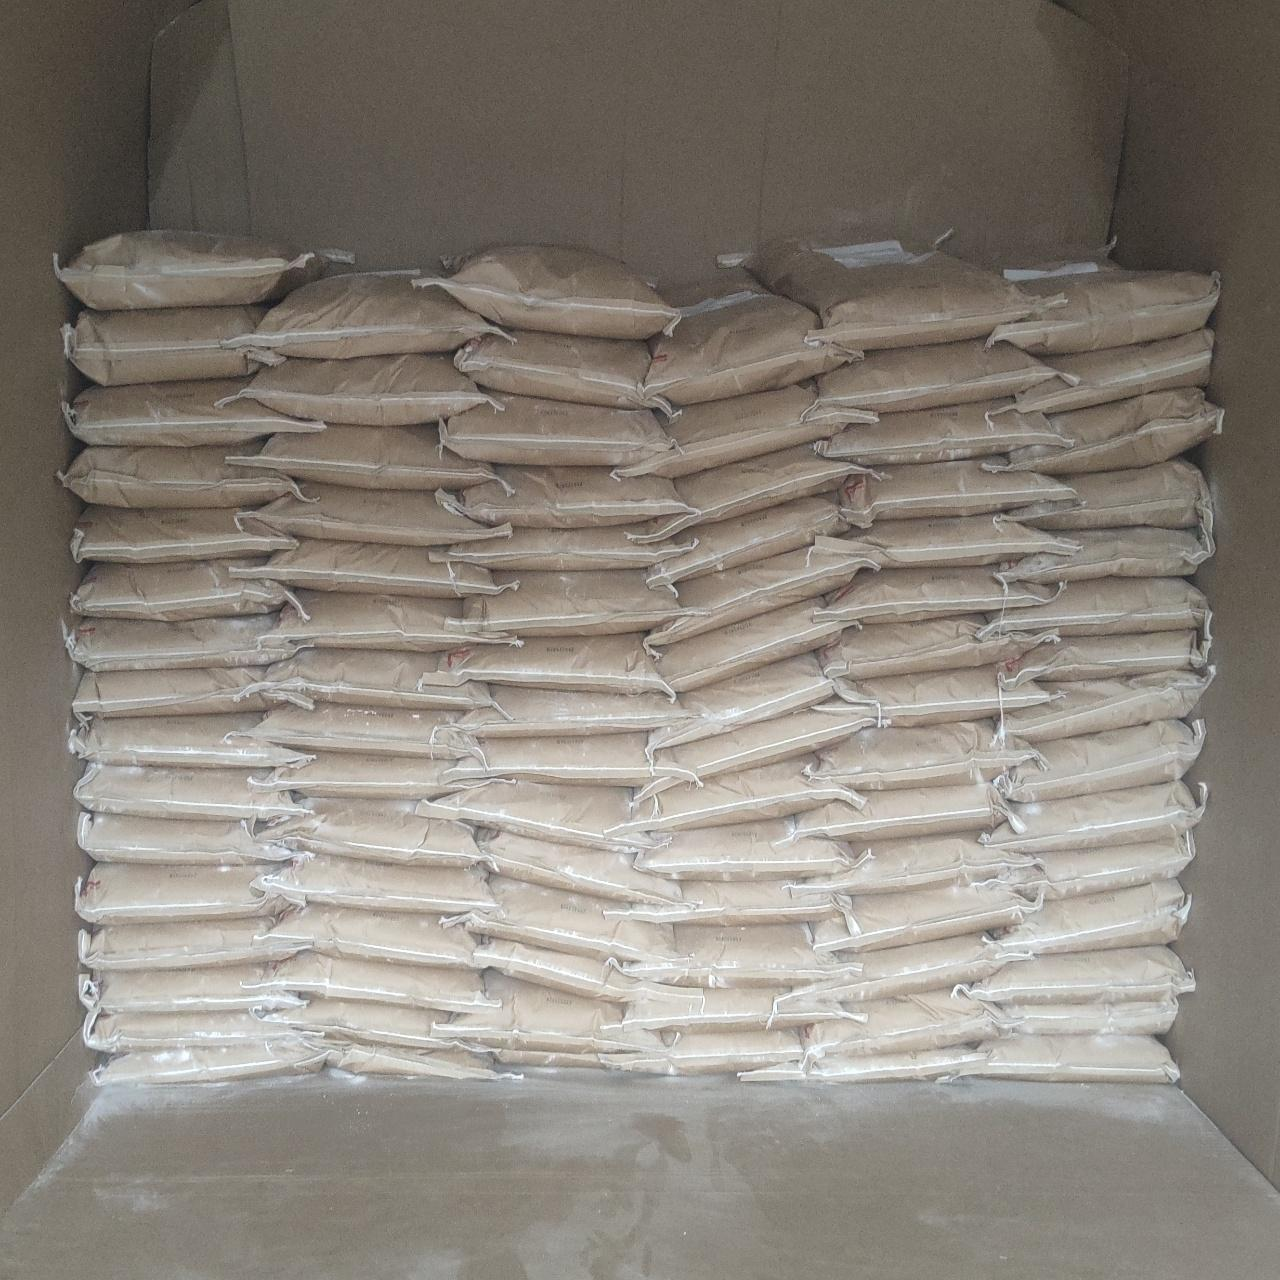sack: (720, 244, 1060, 350), (644, 270, 855, 406), (631, 701, 879, 810), (986, 245, 1219, 354), (617, 382, 874, 478), (416, 246, 676, 336), (636, 445, 880, 540), (230, 272, 504, 356), (57, 230, 350, 308), (648, 546, 870, 644), (440, 876, 674, 960), (986, 390, 1223, 472), (610, 756, 860, 832), (646, 496, 847, 588), (414, 779, 662, 855), (778, 934, 1030, 1008), (648, 652, 842, 748), (656, 598, 856, 690), (456, 331, 678, 414), (433, 972, 656, 1054), (1002, 328, 1212, 414), (816, 340, 1054, 411), (64, 380, 322, 445), (238, 354, 486, 422), (992, 720, 1204, 798), (978, 779, 1204, 852), (992, 670, 1210, 745), (66, 306, 280, 382), (232, 424, 493, 486), (818, 720, 1044, 790), (812, 400, 1065, 462), (440, 394, 670, 462), (244, 482, 506, 542), (229, 540, 512, 595), (454, 570, 686, 636), (808, 881, 1034, 949), (266, 590, 516, 651), (478, 828, 680, 903), (818, 663, 1060, 726), (974, 835, 1194, 903), (438, 467, 688, 526), (818, 614, 1054, 678), (474, 938, 703, 1002), (425, 634, 670, 694), (998, 458, 1210, 526), (60, 445, 300, 504), (260, 952, 493, 1012), (256, 855, 498, 912), (450, 731, 697, 788), (264, 648, 488, 710), (634, 818, 866, 878), (799, 835, 1030, 894), (70, 560, 292, 622), (256, 998, 490, 1056), (992, 880, 1189, 949), (264, 798, 478, 862), (840, 459, 1070, 518), (784, 784, 1022, 840), (620, 924, 842, 983), (248, 702, 478, 760), (824, 566, 1058, 622), (264, 904, 476, 966), (76, 764, 309, 821), (956, 946, 1190, 1002), (803, 990, 999, 1057), (68, 614, 300, 670), (821, 515, 1073, 566), (76, 864, 298, 922), (72, 712, 306, 765), (983, 578, 1210, 632), (74, 506, 294, 561), (76, 666, 309, 716), (996, 527, 1210, 583), (1000, 629, 1208, 686), (454, 686, 692, 734), (440, 524, 696, 568), (80, 918, 306, 968), (84, 964, 300, 1016), (79, 812, 308, 862), (956, 1034, 1178, 1084), (608, 880, 850, 926), (91, 1037, 324, 1084), (86, 1007, 324, 1053), (620, 986, 847, 1030), (254, 753, 481, 796), (602, 1028, 802, 1074), (738, 1047, 985, 1082), (306, 1039, 498, 1080), (994, 1000, 1175, 1034), (495, 1049, 678, 1074)
